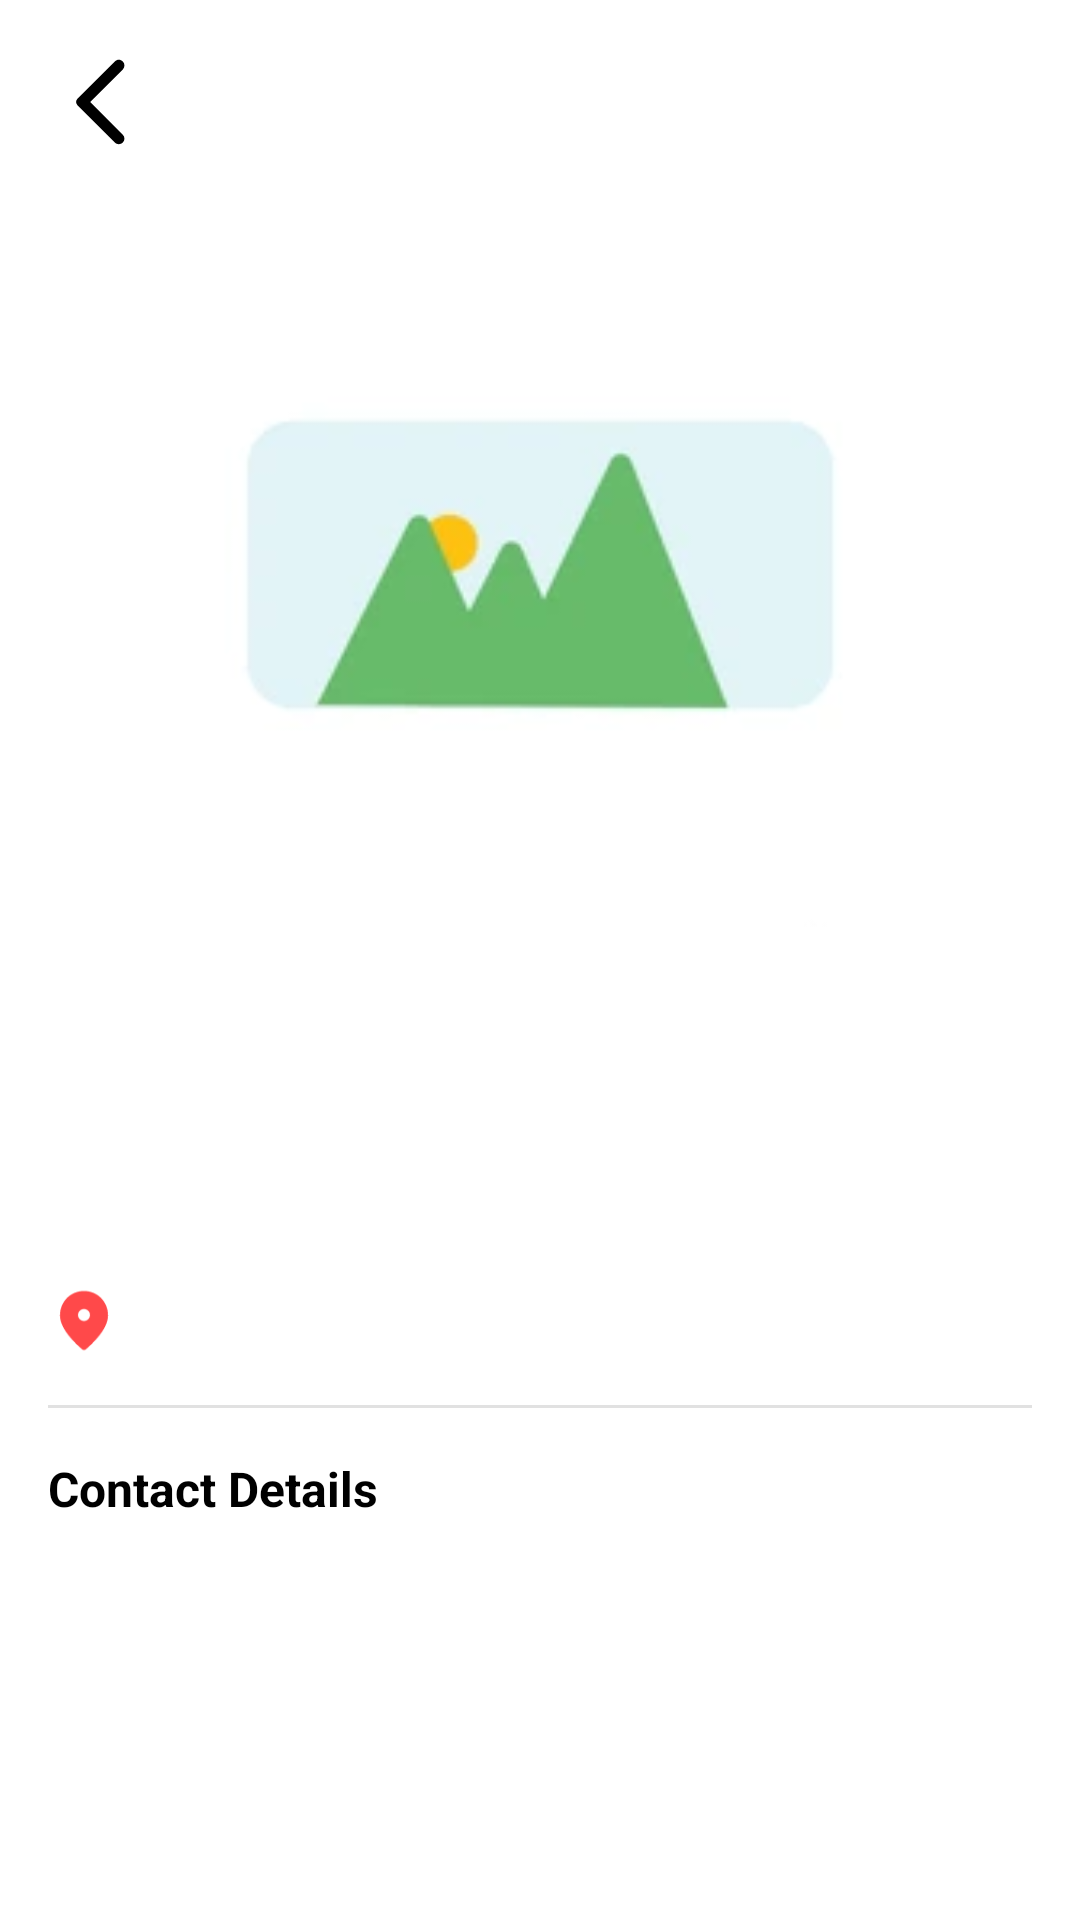

Where icons sit on this 1080w x 1920h app screen, as rect(x1, y1, x2, y2):
arrow back: rect(76, 59, 125, 145)
